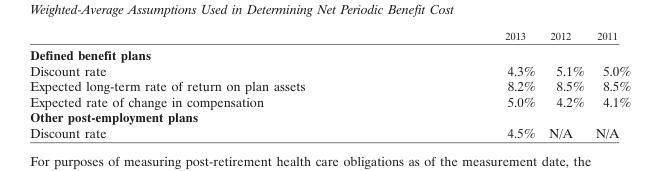table: (29, 28, 630, 140)
table column: (29, 28, 404, 140), (404, 28, 541, 140), (541, 28, 589, 140), (589, 28, 630, 140)
table column header: (29, 28, 630, 44)
table projected row header: (29, 44, 630, 62), (29, 109, 630, 124)
table row: (29, 44, 630, 62), (29, 28, 630, 44), (29, 62, 630, 78), (29, 93, 630, 109), (29, 124, 630, 140), (29, 78, 630, 93), (29, 109, 630, 124)
